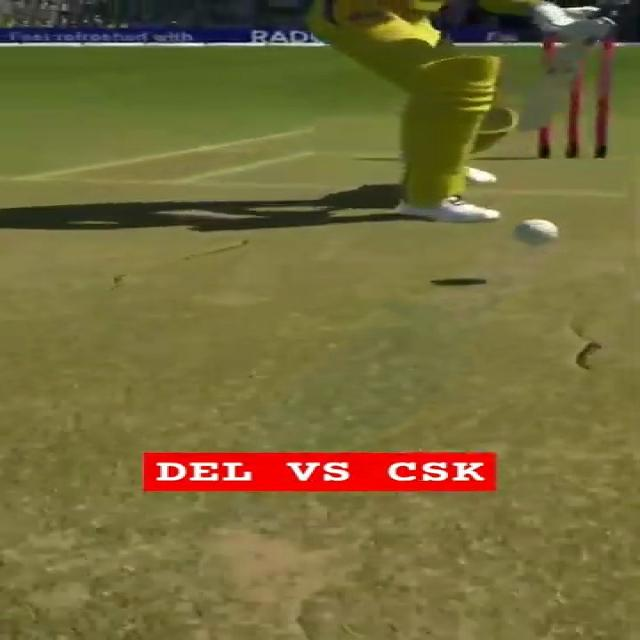ball: (512, 218, 562, 245)
